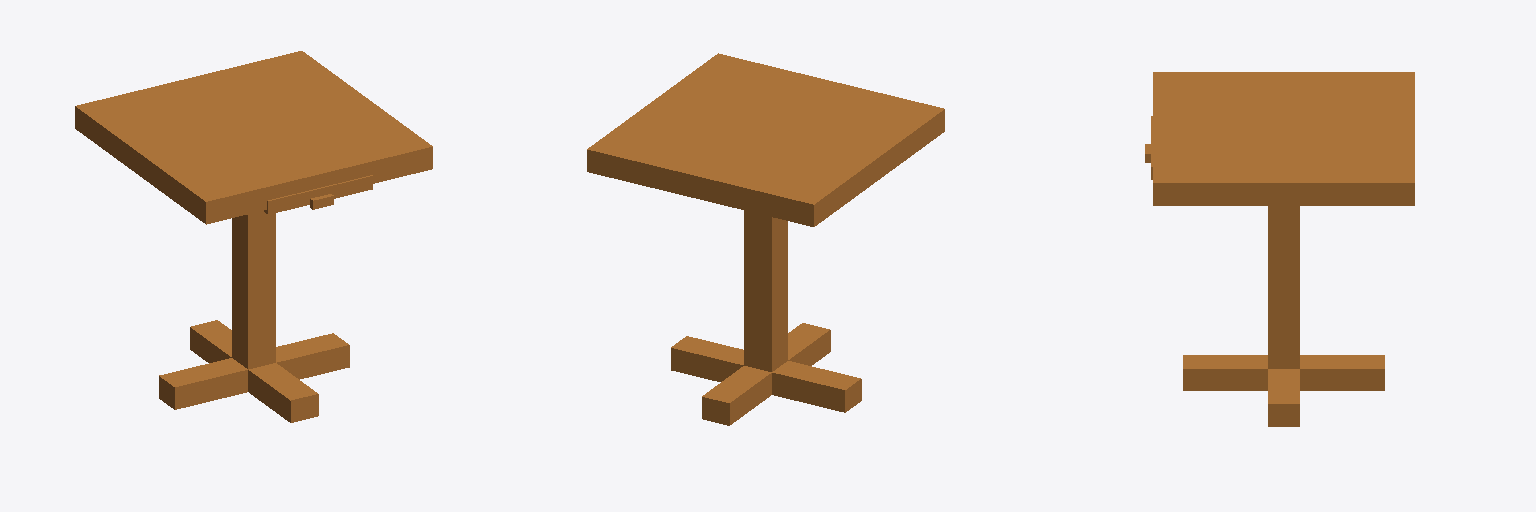
3 renders of one model, left to right at view 1: azimuth 30°, elevation 25°; view 2: azimuth 150°, elevation 25°; view 3: azimuth 270°, elevation 25°, orthographic.
Visible parts, largest first — view 1: polySurface8; view 2: polySurface8; view 3: polySurface8.
Part boxes in pixels (left/top/right/bottom): polySurface8: left=75, top=51, right=432, bottom=422; polySurface8: left=587, top=53, right=944, bottom=425; polySurface8: left=1145, top=72, right=1414, bottom=426.
Size of the model in its own units: 0.65 by 0.7016 by 0.669.
1 materials, 1 textured.